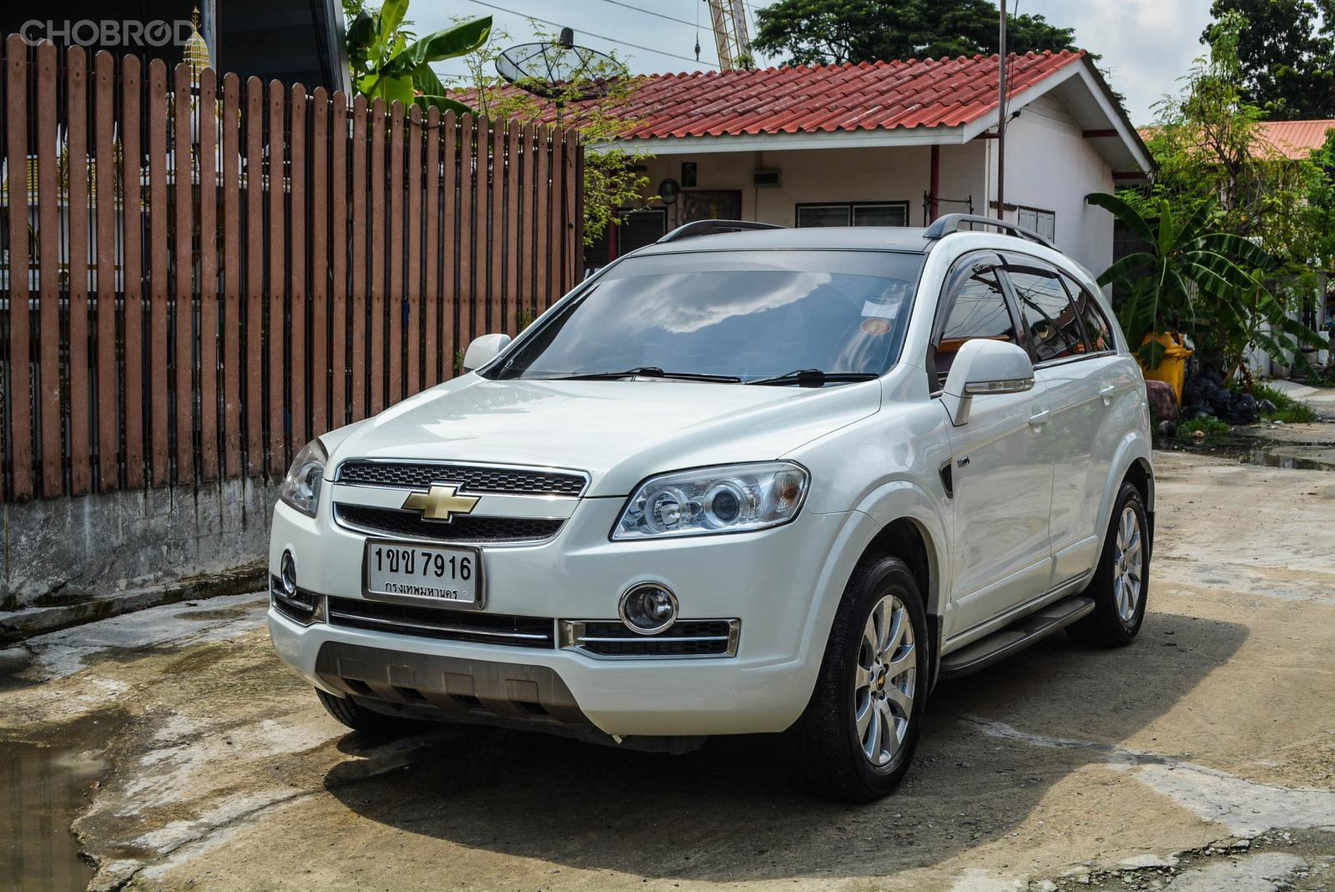license-plate: (358, 534, 489, 613)
